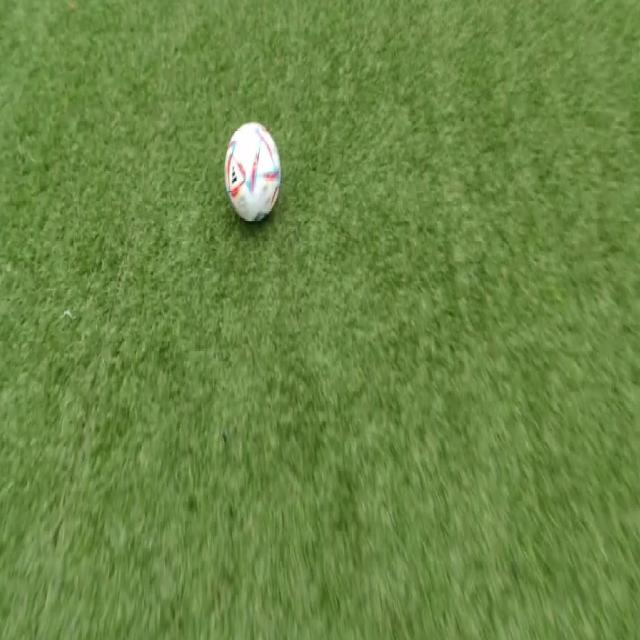ball: (225, 121, 281, 222)
